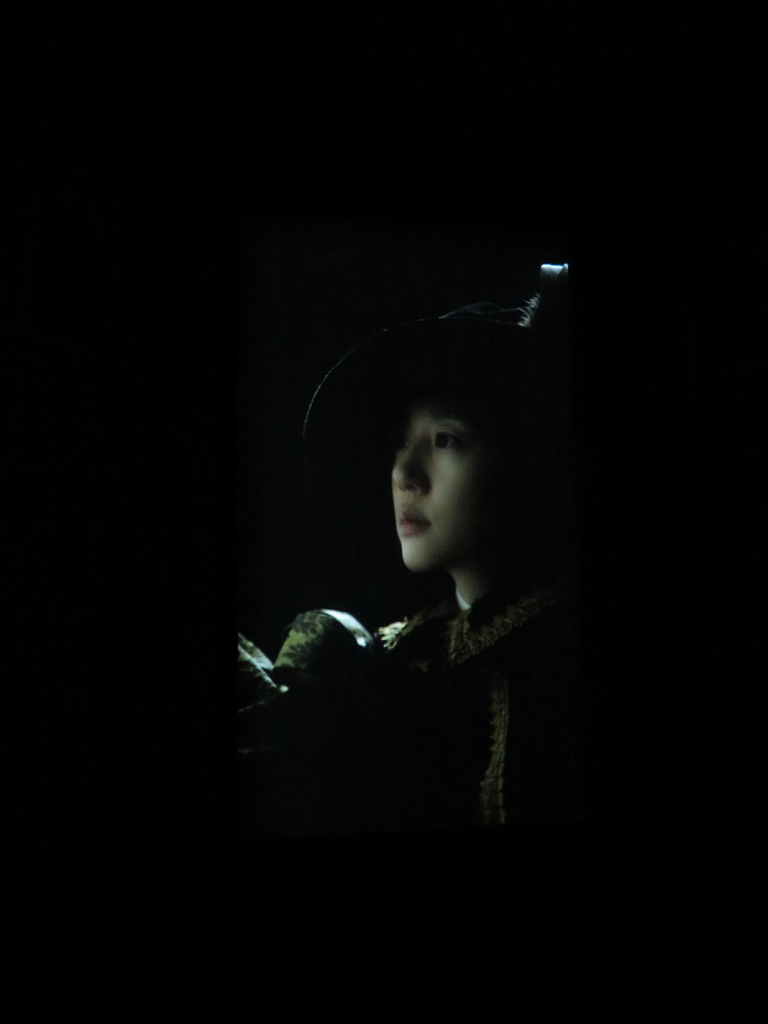Human-face: (387, 404, 520, 581)
